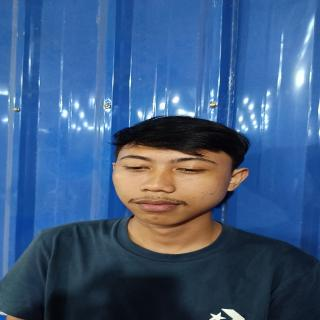Sedih: (114, 139, 232, 233)
